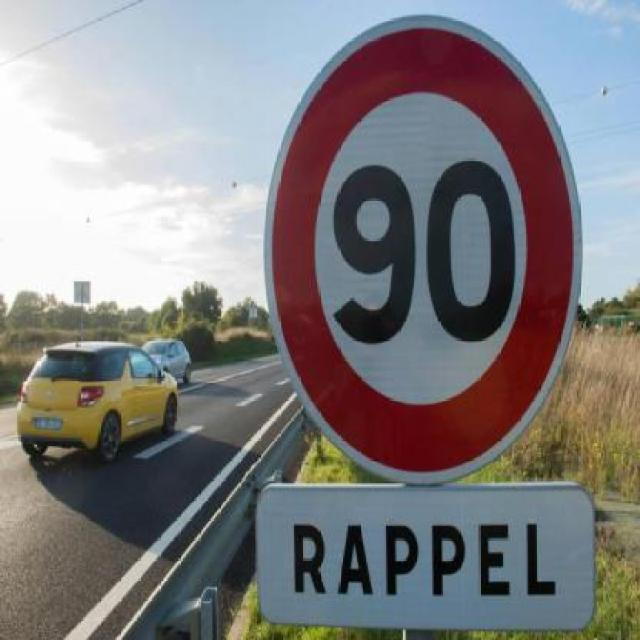Ograniczenie predkosci do 90: (268, 19, 579, 480)
